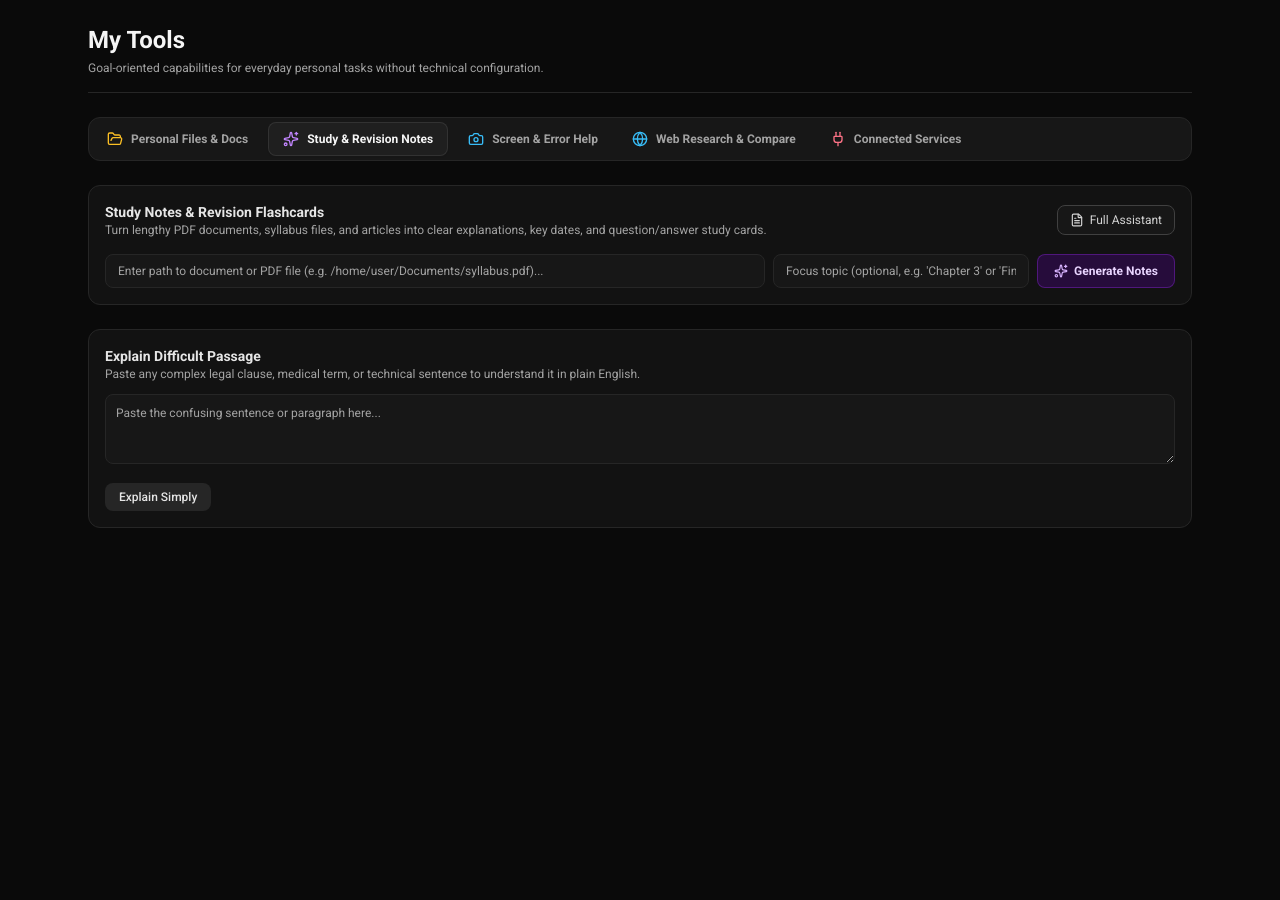
Scenario: Kyro Everyday Destinations & Workflows › MyToolsView › generates study revision notes and passage explanations
The width and height of the screenshot is (1280, 900).
Replace the text in the field with placeholder "Enter path to document or PDF file" with "/home/user/Documents/lecture.pdf" at (435, 271), box [105, 254, 765, 288]
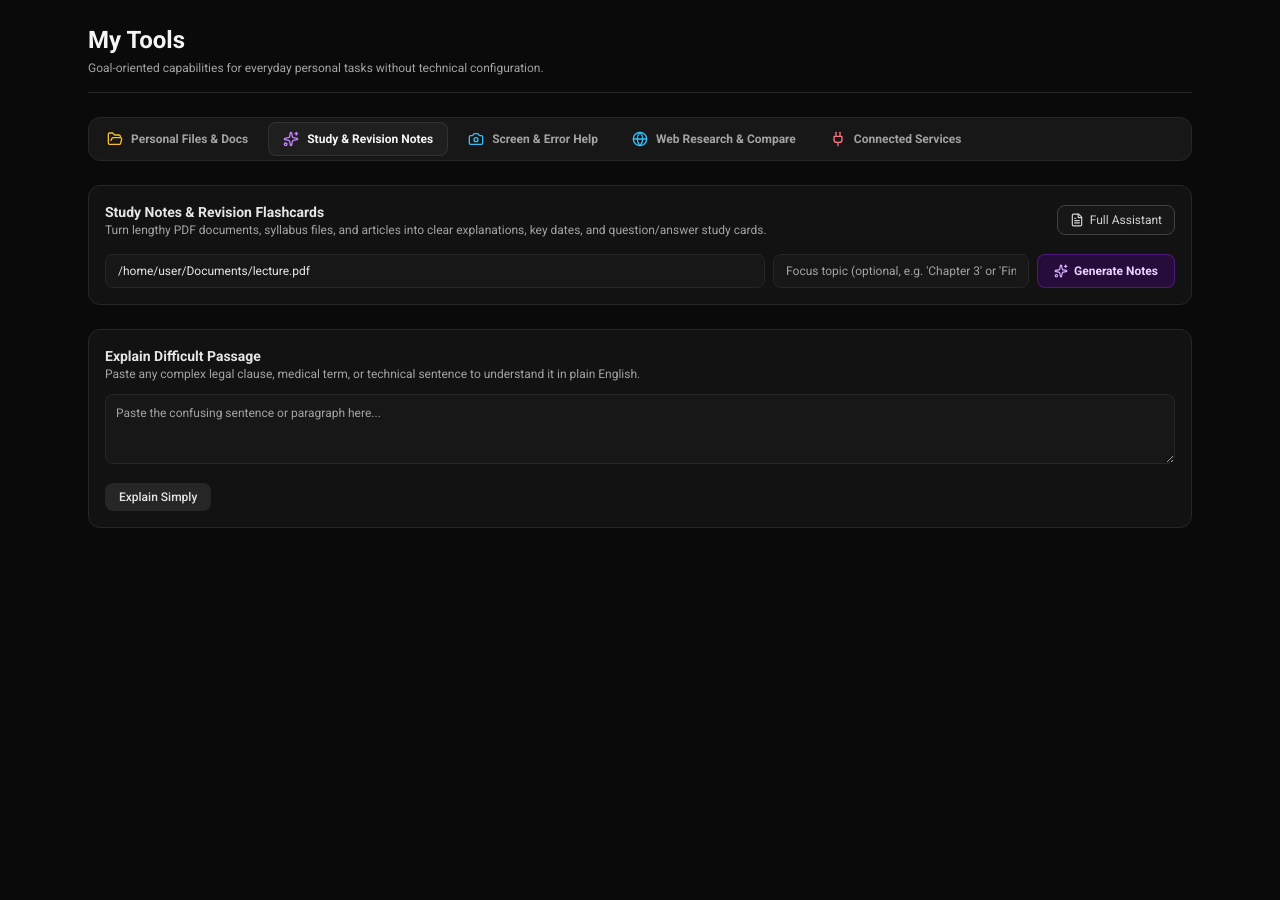
Click the button "Generate Notes" at (1106, 271), box [1037, 254, 1175, 288]
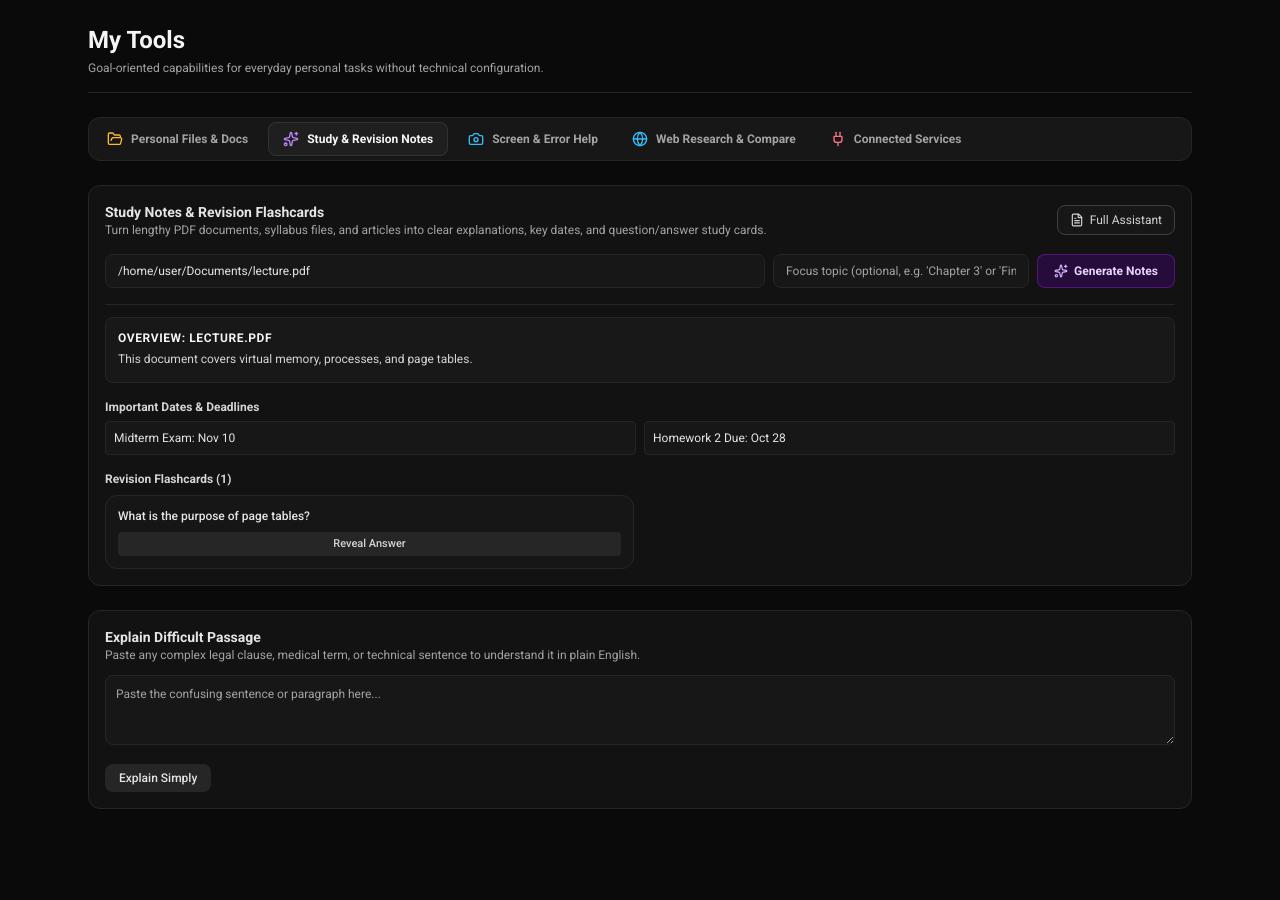
Now the heading "Overview: lecture.pdf" is shown, box [118, 331, 272, 345]
Now the text "Midterm Exam: Nov 10" is shown, box [105, 420, 636, 454]
Now the text "What is the purpose of page tables?" is shown, box [118, 508, 310, 522]
